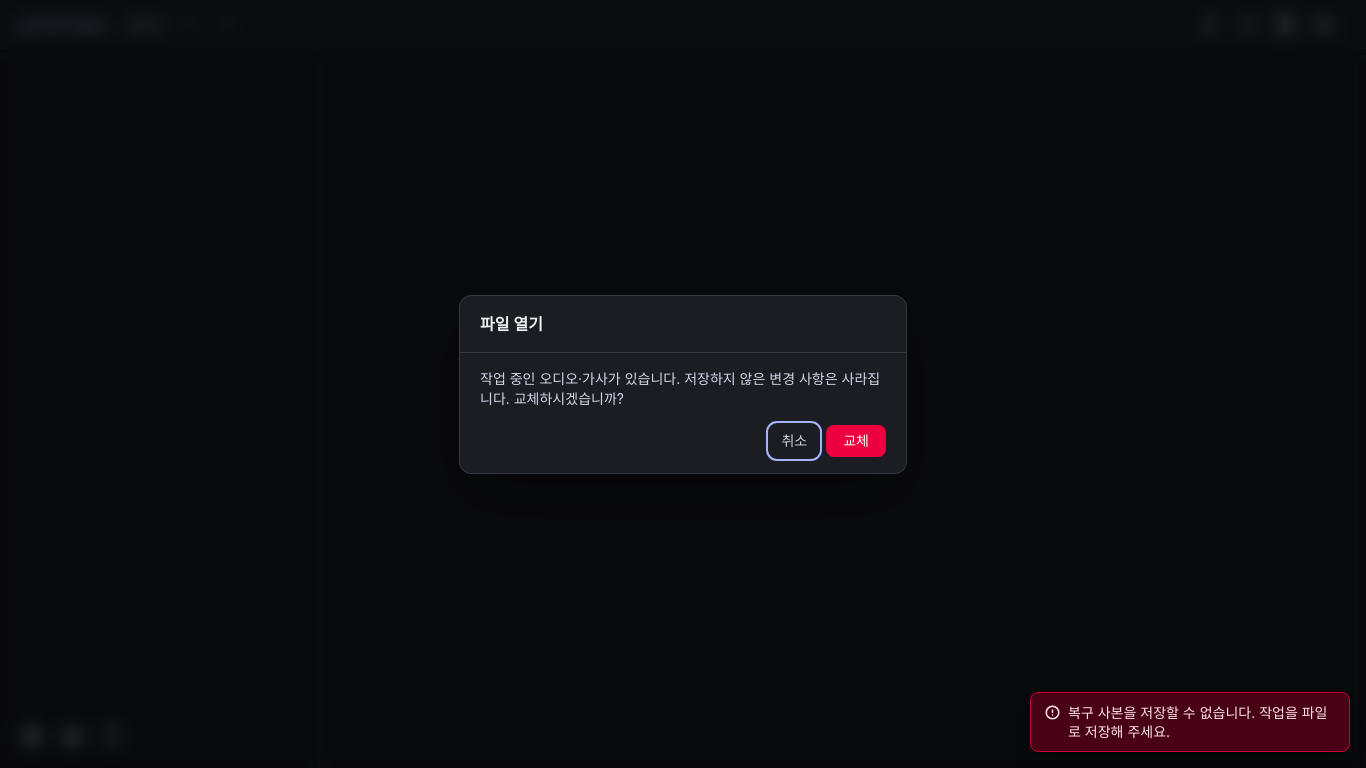
App — paired drop transactions › retains the old audio if the confirmed replacement lyrics fail to read
The image size is (1366, 768).
Click the button "교체": (856, 440) [826, 424, 886, 456]
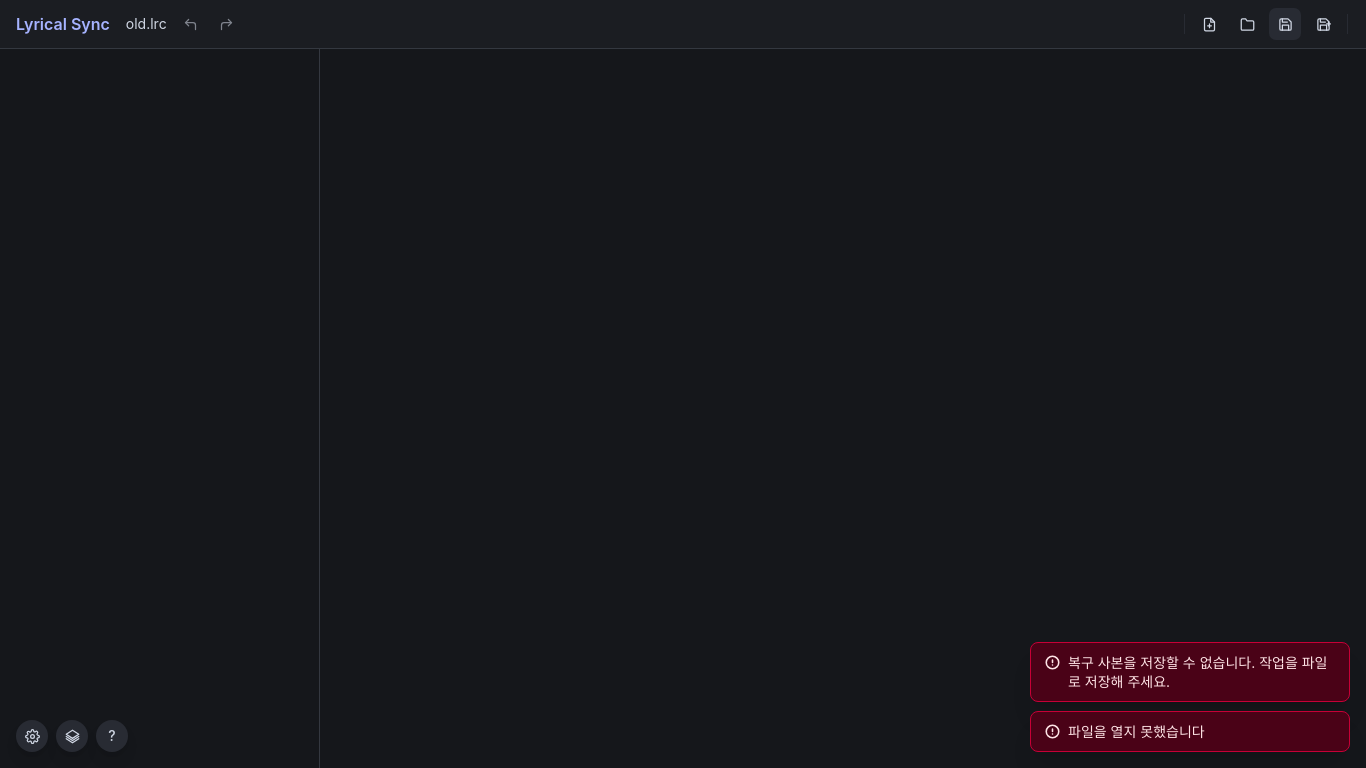
Expected: the text "파일을 열지 못했습니다" is shown, [1068, 723, 1205, 740]
